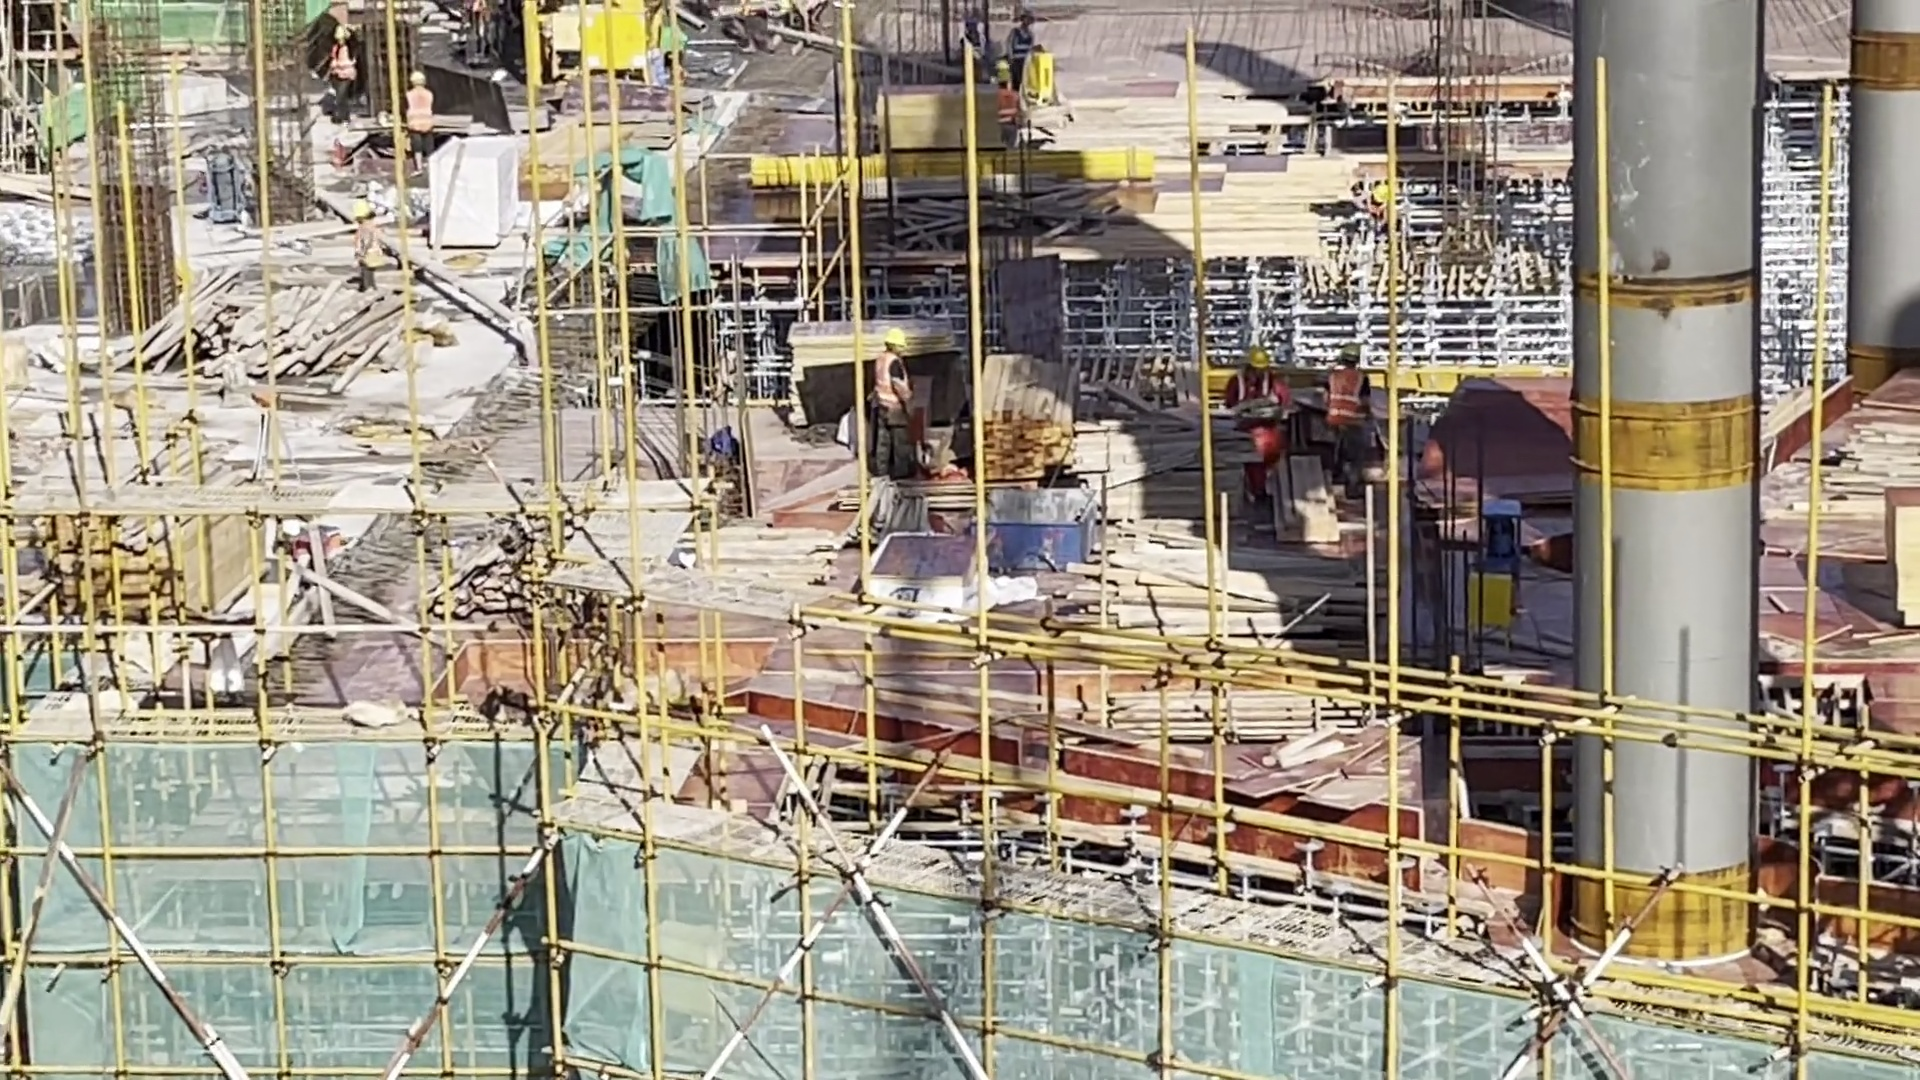helmet: (1243, 341, 1275, 379), (1370, 178, 1396, 210), (884, 327, 910, 356), (1339, 341, 1364, 371), (994, 67, 1014, 87), (409, 72, 429, 90)
person: (1227, 336, 1287, 501), (1318, 337, 1380, 490), (870, 324, 918, 484), (347, 193, 393, 304), (1356, 170, 1405, 272), (401, 65, 440, 181), (323, 19, 362, 126), (1009, 9, 1048, 102), (993, 63, 1026, 159)
vest: (1227, 373, 1280, 439), (1327, 368, 1373, 435), (871, 350, 912, 418), (407, 89, 434, 141), (356, 223, 383, 271), (328, 43, 359, 85), (1008, 23, 1036, 63), (995, 89, 1021, 134)
